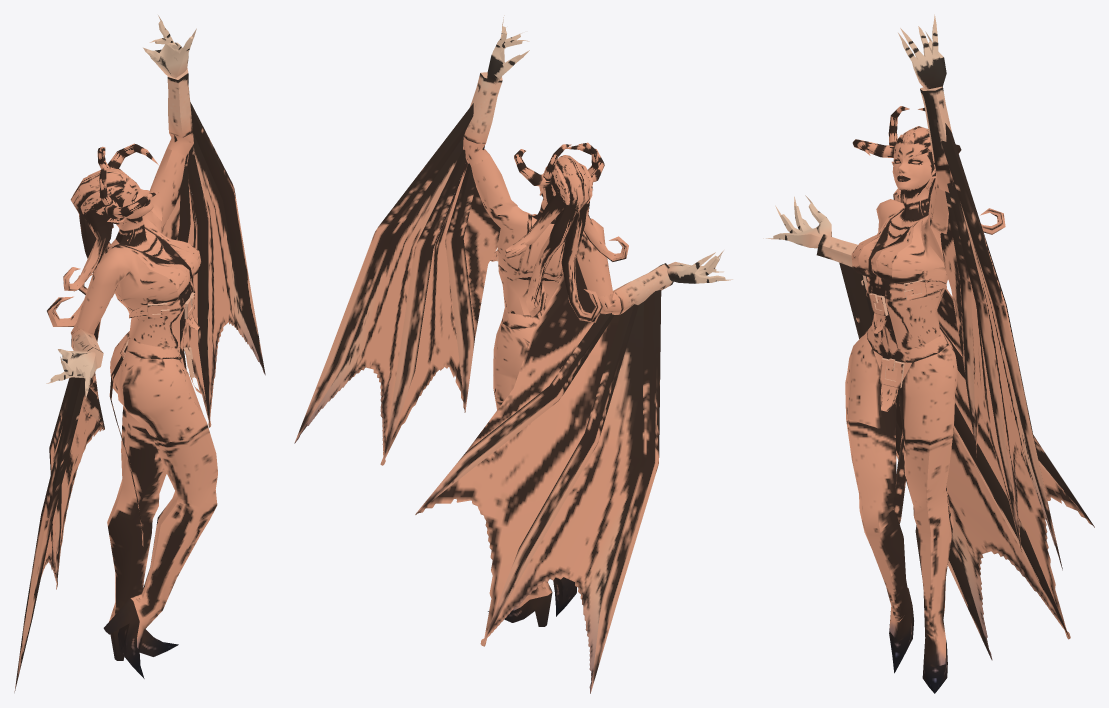
File: bl0015-color.glb
The picture shows the model from 3 angles, left to right: view 1: azimuth 30°, elevation 25°; view 2: azimuth 150°, elevation 25°; view 3: azimuth 270°, elevation 25°; orthographic projection. The views are drawn at different scales.
Visible parts, largest first — view 1: _M00_SH_KG; view 2: _M00_SH_KG; view 3: _M00_SH_KG.
Part boxes in pixels (x1,y1,x2,y2): _M00_SH_KG: (14,15,265,692); _M00_SH_KG: (294,15,732,693); _M00_SH_KG: (763,14,1094,693).
Bounding box in the file's own units: 1.38 × 2.56 × 1.09.
2 materials, 2 textured.
